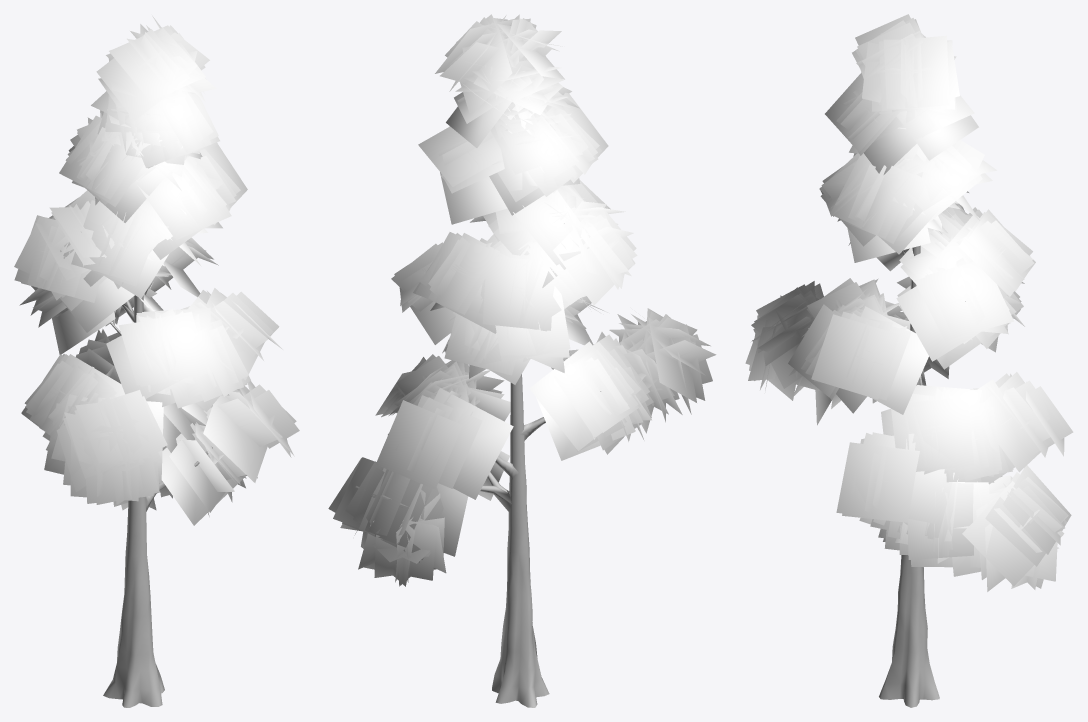
File: pineTree_LOD0.fbx
3 renders of one model, left to right at view 1: azimuth 30°, elevation 25°; view 2: azimuth 150°, elevation 25°; view 3: azimuth 270°, elevation 25°, orthographic.
Parts seen in each view (by area): view 1: t_leaves02_1, _0; view 2: t_leaves02_1, _0; view 3: t_leaves02_1, _0.
Boxes of the visible parts, x1,y1,x2,y2 form: t_leaves02_1: (14,15,299,525); _0: (103,282,212,707); t_leaves02_1: (328,14,716,586); _0: (480,374,600,707); t_leaves02_1: (745,14,1073,591); _0: (879,245,965,707).
Bounding box in the file's own units: 2316 × 5431 × 2390.
